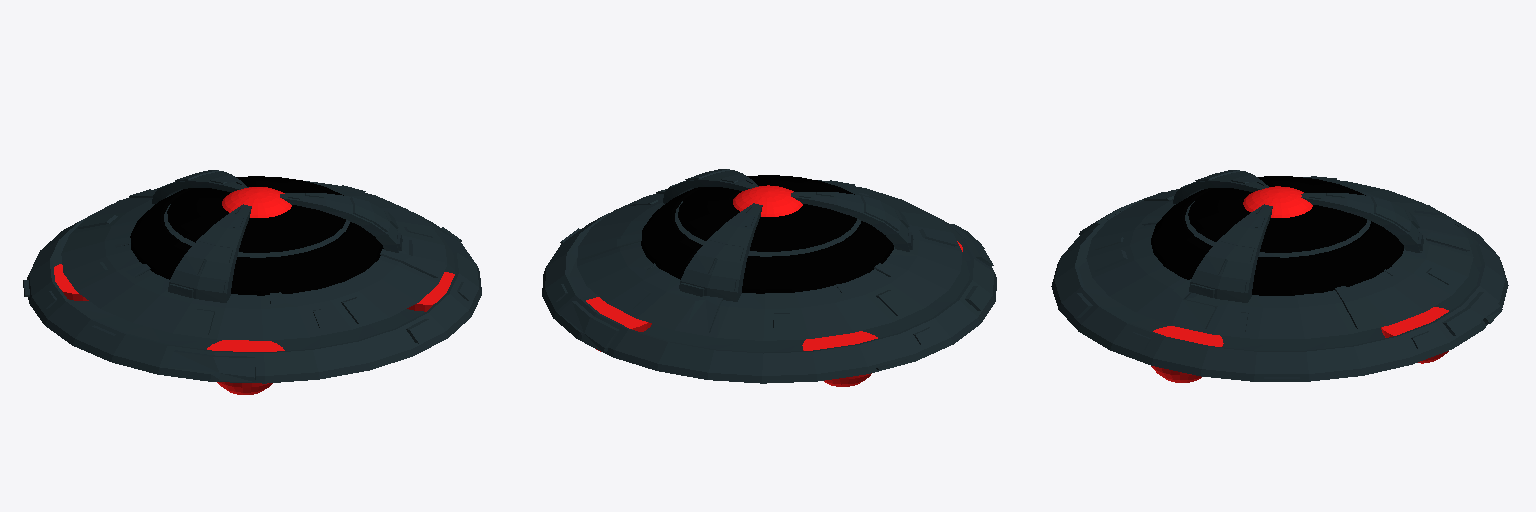
File: Disco.obj
The picture shows the model from 3 angles: view 1: azimuth 30°, elevation 25°; view 2: azimuth 150°, elevation 25°; view 3: azimuth 270°, elevation 25°; orthographic projection.
Parts seen in each view (by area): view 1: Sphere001, Sphere006, Object001, Object003, Sphere007, Object002, Sphere003, Sphere002; view 2: Sphere001, Sphere006, Object002, Object001, Sphere007, Object003, Sphere004, Sphere005; view 3: Sphere001, Sphere006, Object003, Object002, Sphere007, Object001, Sphere002, Sphere005.
Boxes of the visible parts, <box> form: Sphere001: <box>23,181,481,383</box>; Sphere006: <box>130,176,383,295</box>; Object001: <box>168,204,251,302</box>; Object003: <box>280,193,402,252</box>; Sphere007: <box>222,187,291,217</box>; Object002: <box>152,170,248,203</box>; Sphere003: <box>207,340,284,394</box>; Sphere002: <box>407,272,454,311</box>; Sphere001: <box>542,180,996,383</box>; Sphere006: <box>641,175,893,293</box>; Object002: <box>679,203,762,301</box>; Object001: <box>791,192,913,251</box>; Sphere007: <box>733,185,802,216</box>; Object003: <box>663,169,758,203</box>; Sphere004: <box>802,331,877,386</box>; Sphere005: <box>586,297,651,351</box>; Sphere001: <box>1051,176,1508,381</box>; Sphere006: <box>1151,176,1403,295</box>; Object003: <box>1189,204,1272,302</box>; Object002: <box>1301,193,1423,252</box>; Sphere007: <box>1243,186,1312,217</box>; Object001: <box>1173,170,1268,203</box>; Sphere002: <box>1151,326,1223,382</box>; Sphere005: <box>1381,307,1448,363</box>.
Size of the model in its own units: 173 by 53.08 by 173.